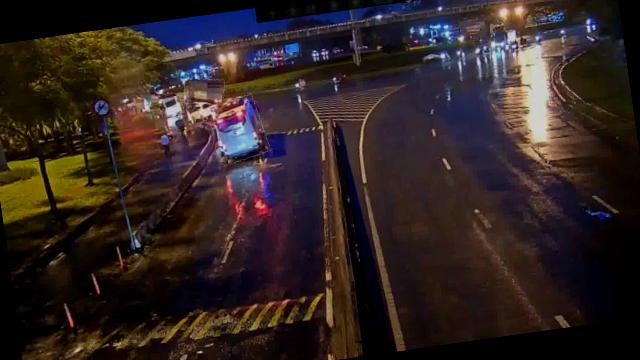Bus: (212, 94, 268, 163), (158, 95, 183, 117)
Car: (186, 94, 220, 122)
Truck: (182, 75, 226, 108)
